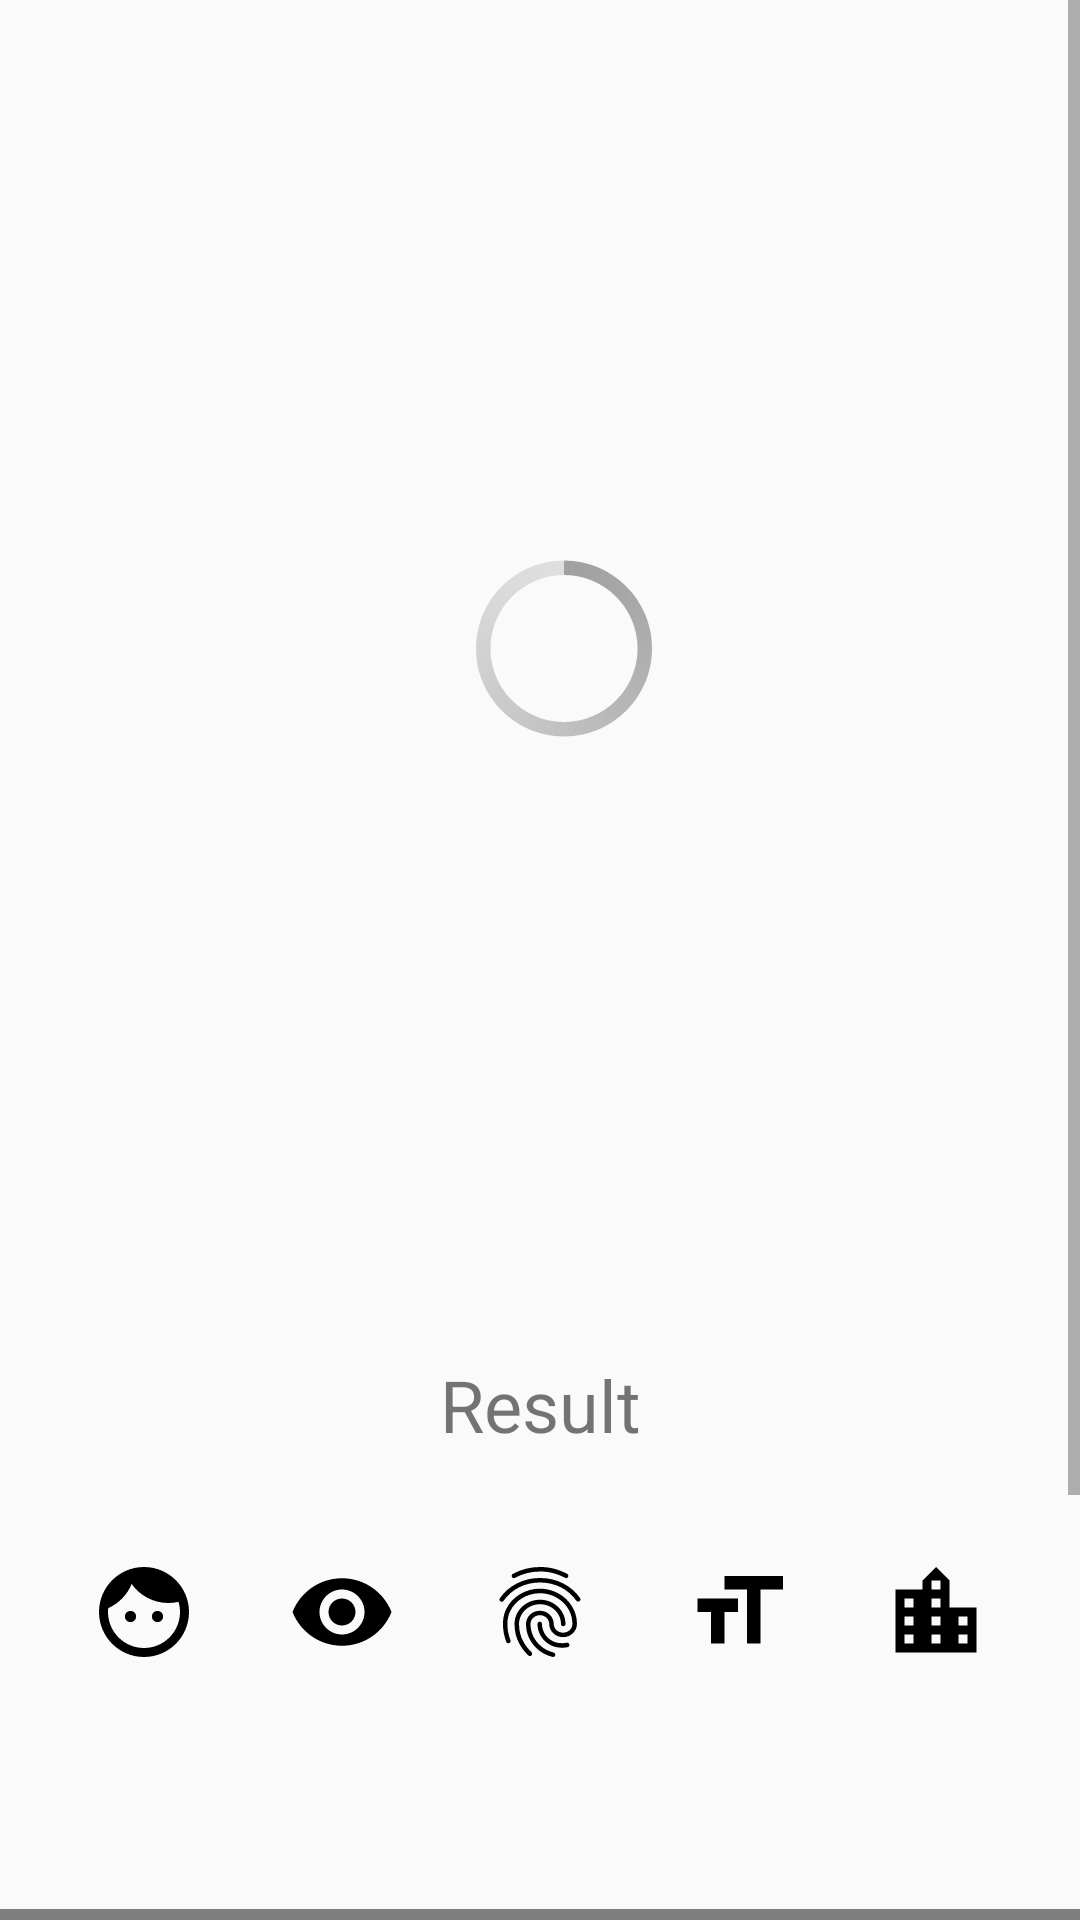

Named icons in this screenshot (1080 × 1920) and their bounding boxes, (x1, y1, x2, y2):
face: (99, 1567, 189, 1657)
fingerprint: (499, 1567, 581, 1657)
format size: (697, 1576, 783, 1644)
location city: (895, 1567, 977, 1653)
